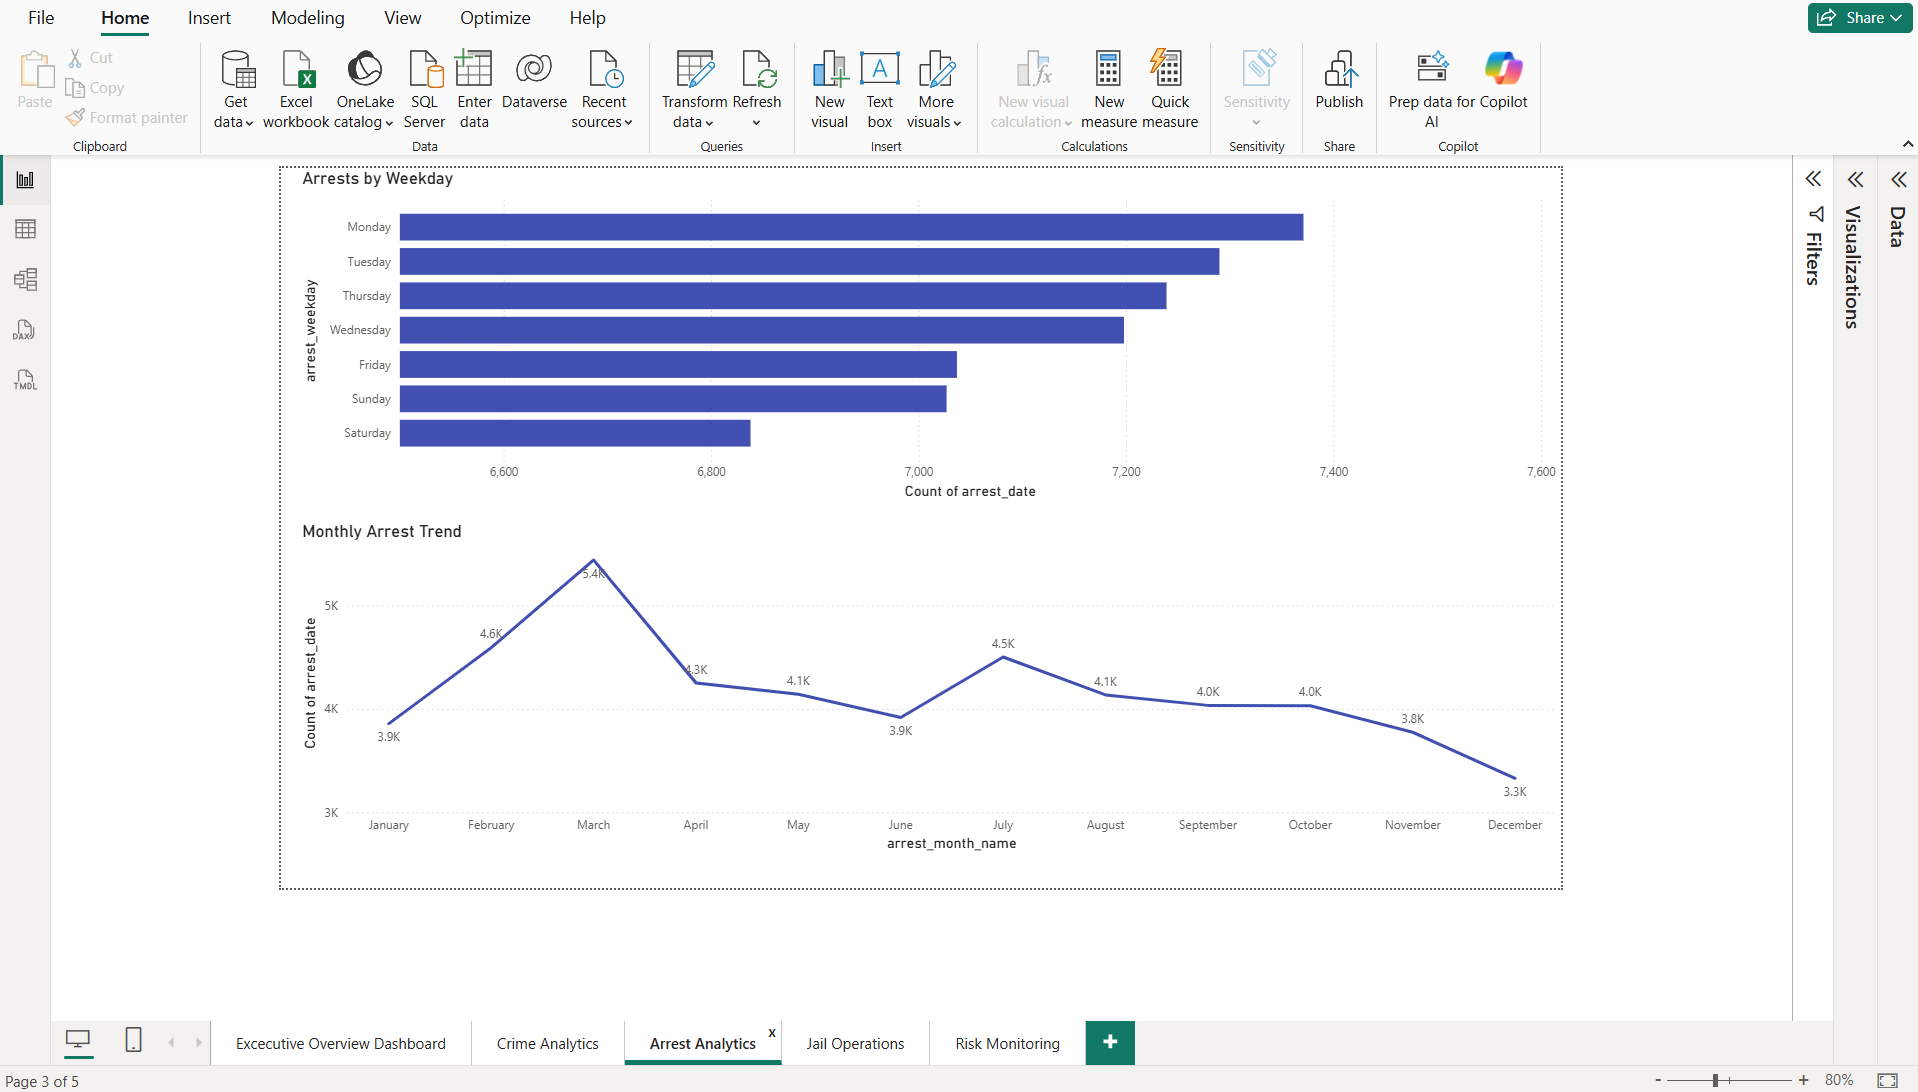

Layout of this report page (visuals, bound fields, positions):
{"tool":"powerbi","page":{"name":"Arrest Analytics","canvas":[1280,720],"ordinal":2},"visuals":[{"type":"clusteredBarChart","title":"Arrests by Weekday","fields":{"Category":["arrests_clean.arrest_weekday"],"Y":["CountNonNull(arrests_clean.arrest_date)"]},"box":[16,0,1264,336],"z":0},{"type":"lineChart","title":"Monthly Arrest Trend","fields":{"Category":["arrests_clean.arrest_month_name"],"Y":["CountNonNull(arrests_clean.arrest_date)"]},"box":[16,352,1264,336],"z":1000}]}

Visuals, with their boxes on the page's 1280x720 design canvas (x1, y1, x2, y2). These are canvas units, not pixel positions in the 1918x1092 screenshot, which may show the page scaled, cropped or inside an application window:
"Arrests by Weekday" clusteredBarChart: crop(16, 0, 1280, 336)
"Monthly Arrest Trend" lineChart: crop(16, 352, 1280, 688)
